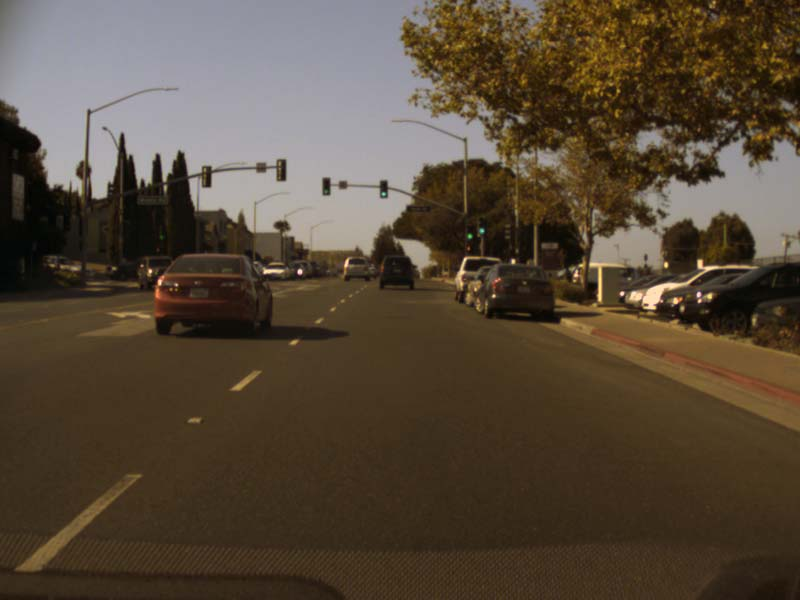Green: (321, 177, 330, 195), (379, 179, 387, 197), (467, 226, 474, 243), (478, 226, 486, 239)
Yellow: (466, 244, 474, 253)
